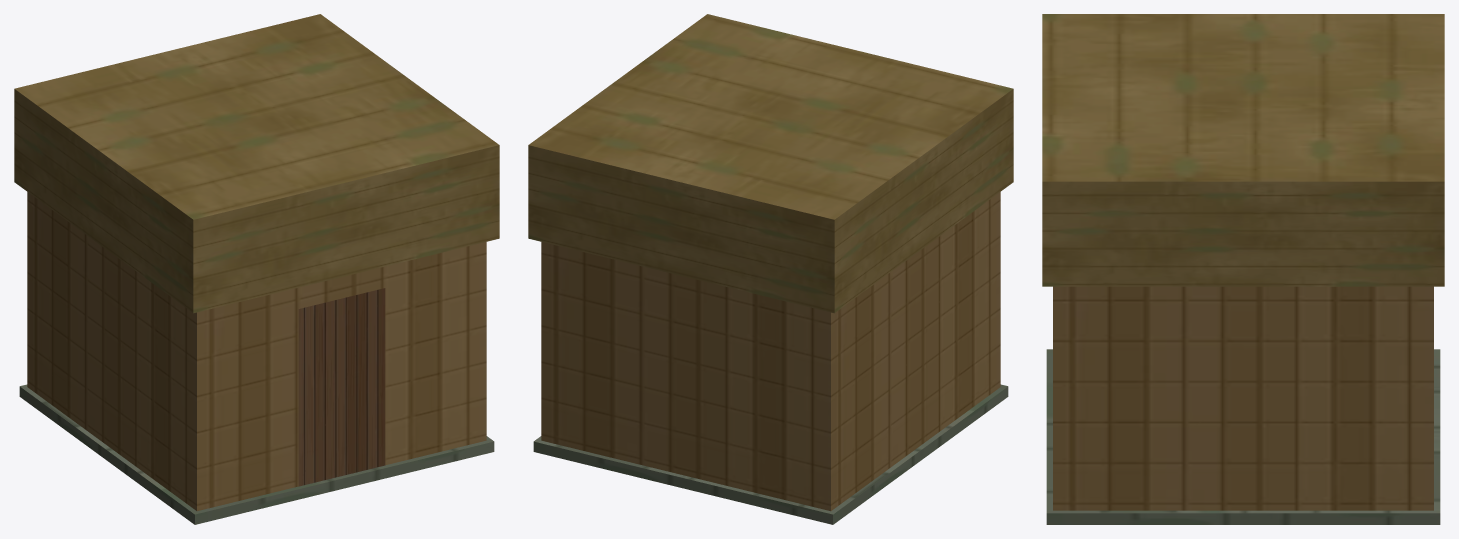
The model's file is house_hut_b_lod1.glb.
3 renders of one model, left to right at view 1: azimuth 30°, elevation 25°; view 2: azimuth 150°, elevation 25°; view 3: azimuth 270°, elevation 25°, orthographic. The views are drawn at different scales.
Parts seen in each view (by area): view 1: ae_jungle_house_hut_b_lod1; view 2: ae_jungle_house_hut_b_lod1; view 3: ae_jungle_house_hut_b_lod1.
Part boxes in pixels (x1,y1,x2,y2): ae_jungle_house_hut_b_lod1: (14, 14, 499, 524); ae_jungle_house_hut_b_lod1: (528, 14, 1013, 524); ae_jungle_house_hut_b_lod1: (1042, 14, 1444, 524).
Size of the model in its own units: 3.7 by 3.55 by 3.75.
Materials: 1 (1 with a texture image).
